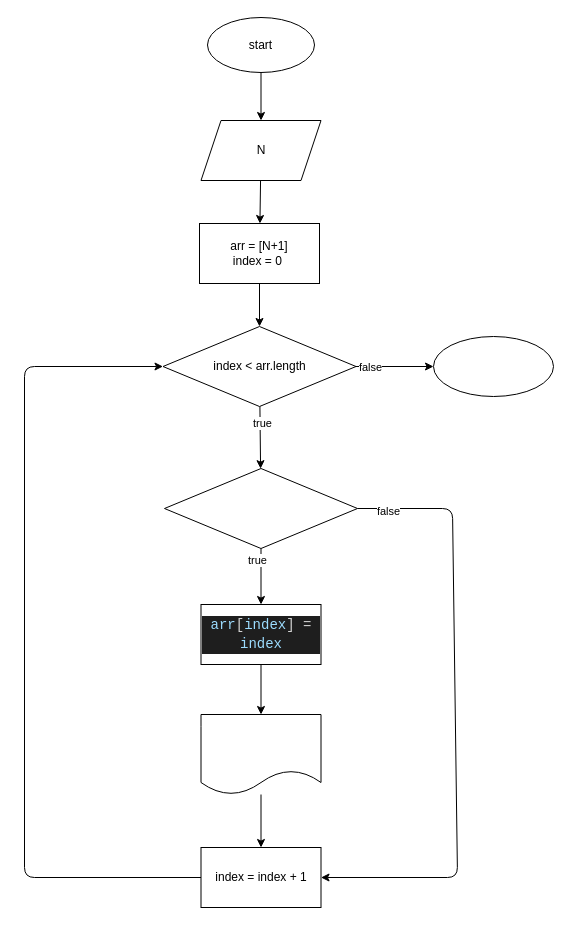
This 571x925 diagram has some shape labels left out. Each missing label, with the centre of its shape:
"arr[index]" belongs at point 260,754.
"end" belongs at point 493,366.
"index / 2 без остатка" belongs at point 261,508.
